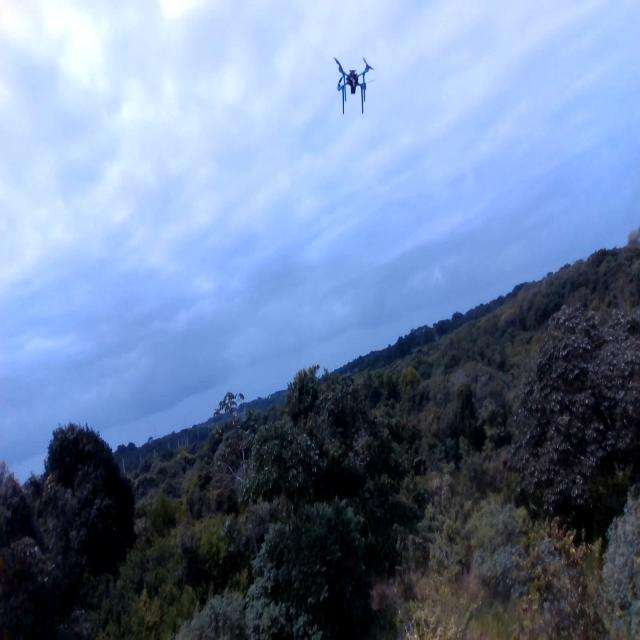-uav-: (325, 39, 384, 124)
